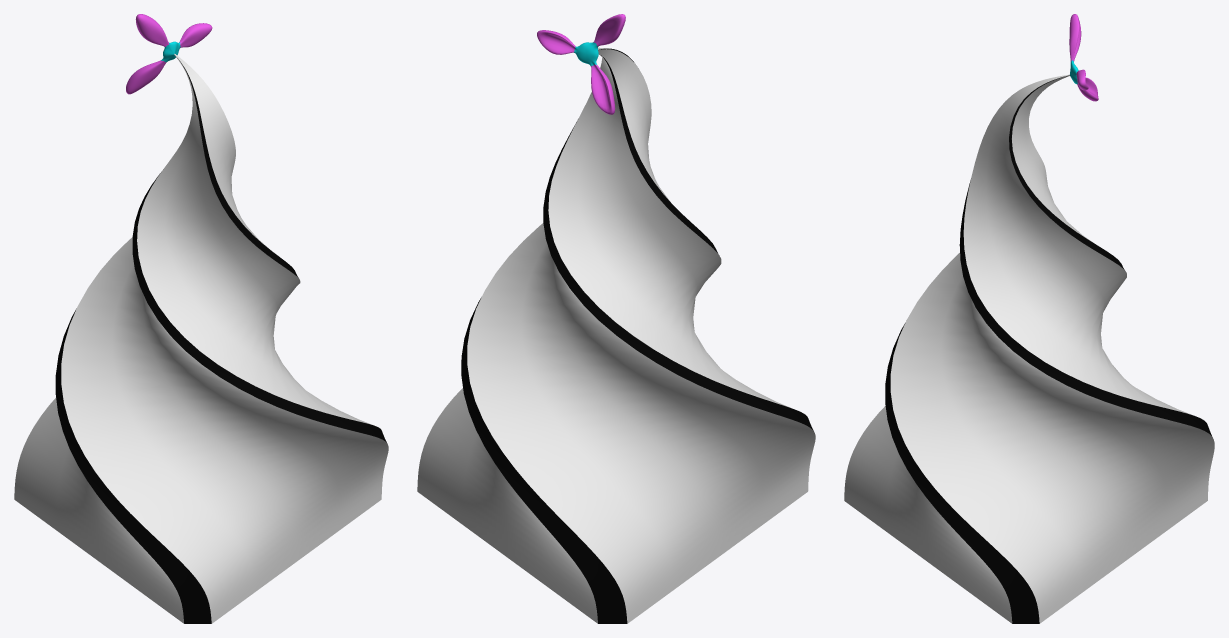
Rendered from 11-Stencil.fbx.
The picture shows the model from 3 angles, left to right: view 1: azimuth 30°, elevation 25°; view 2: azimuth 150°, elevation 25°; view 3: azimuth 270°, elevation 25°; orthographic projection. The views are drawn at different scales.
Visible parts, largest first — view 1: Stencil; view 2: Stencil; view 3: Stencil.
Boxes of the visible parts, x1,y1,x2,y2 form: Stencil: [14, 14, 388, 623]; Stencil: [417, 14, 815, 623]; Stencil: [844, 14, 1214, 623].
Size of the model in its own units: 182 by 278 by 184.
